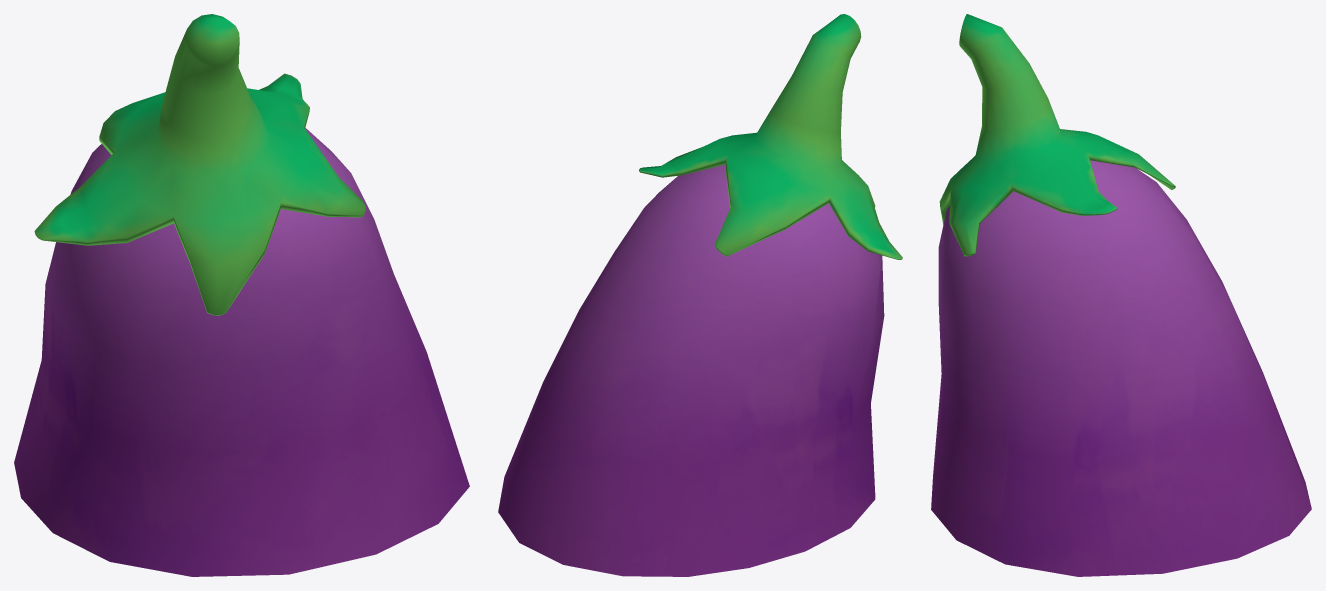
Rendered from eggplant_top.glb.
3 renders of one model, left to right at view 1: azimuth 30°, elevation 25°; view 2: azimuth 150°, elevation 25°; view 3: azimuth 270°, elevation 25°, orthographic. The views are drawn at different scales.
Visible parts, largest first — view 1: EggplantTopA; view 2: EggplantTopA; view 3: EggplantTopA.
Part boxes in pixels (x1=…): EggplantTopA: x1=14, y1=14, x2=469, y2=576; EggplantTopA: x1=498, y1=14, x2=902, y2=576; EggplantTopA: x1=931, y1=14, x2=1311, y2=576.
Size of the model in its own units: 0.8092 by 0.9872 by 0.7719.
1 material, 1 textured.
